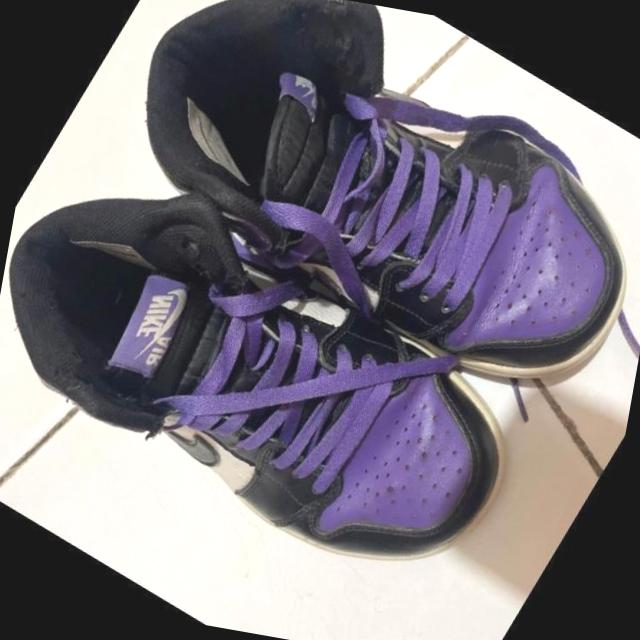nike_fake_jordan: (0, 123, 580, 628), (60, 0, 640, 442)
